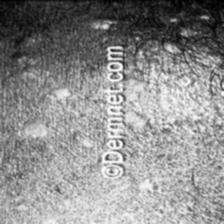Toxin: (143, 10, 211, 88), (90, 13, 118, 29), (51, 86, 72, 102), (24, 120, 44, 136), (130, 110, 146, 130)
